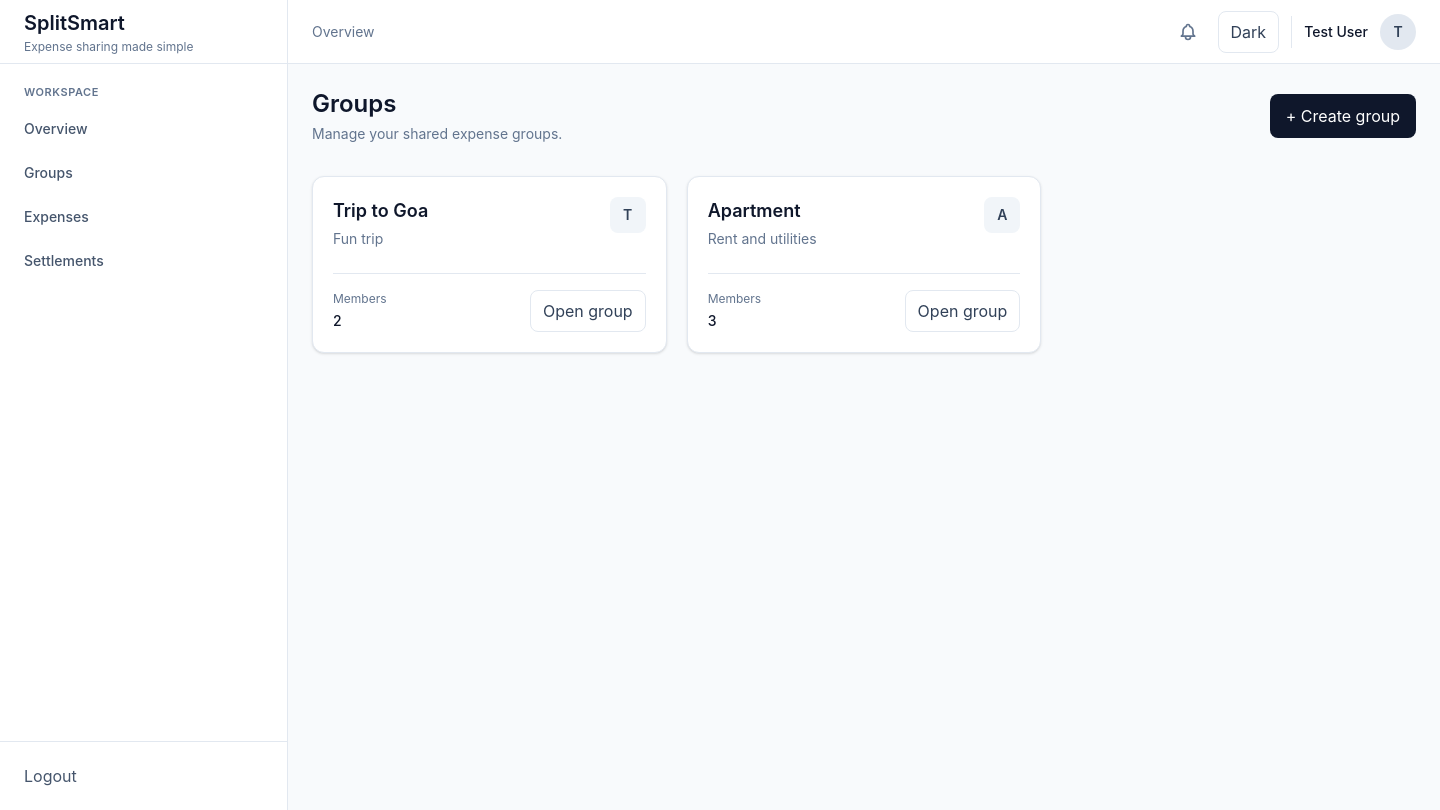
Groups Page › opens create group modal
Expected: the heading "Trip to Goa" is shown, 333,197 -> 428,225
Click the button "+ Create group". click: (1343, 116)
box: 1270,94 -> 1416,138
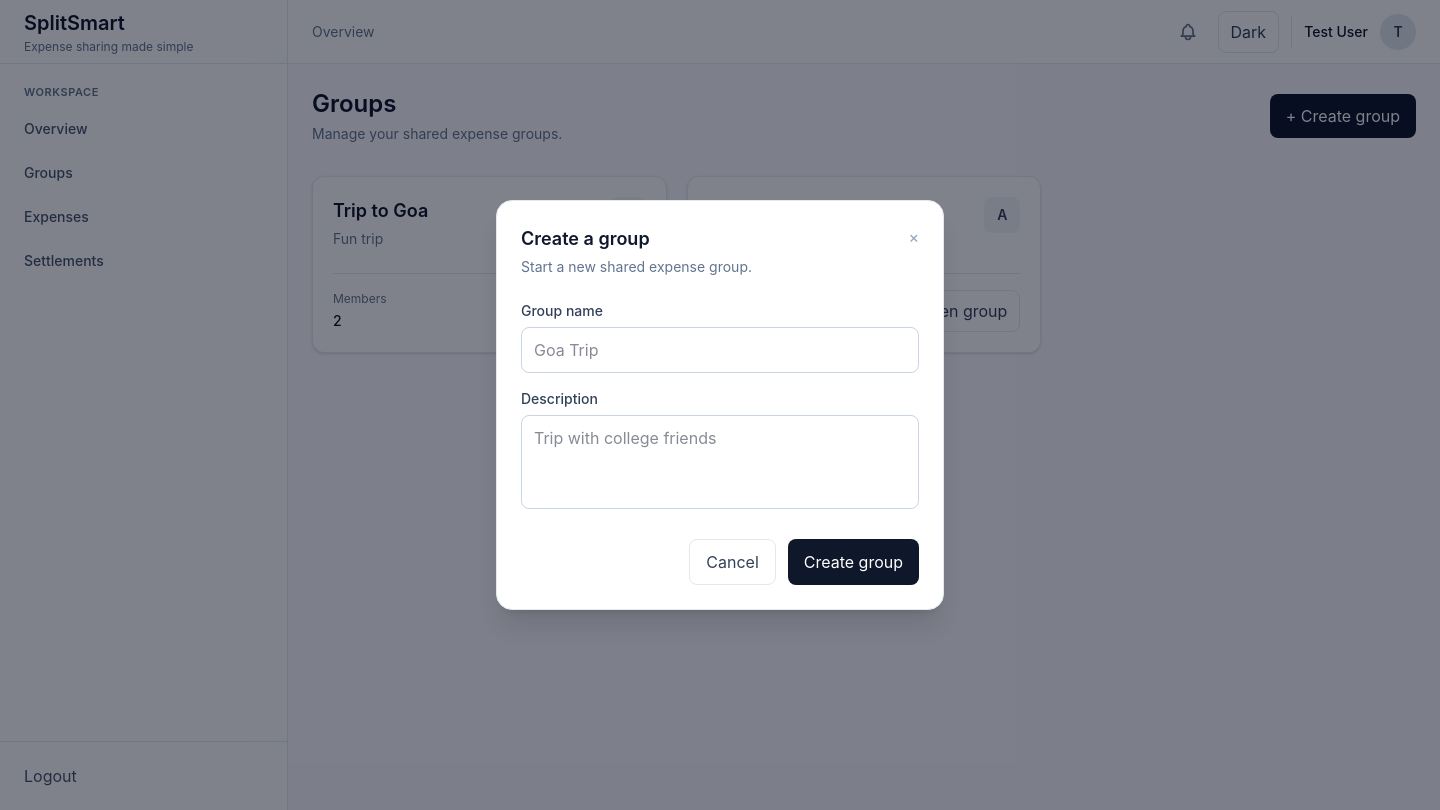
Expected: the heading "Create a group" is shown, 521,228 -> 650,249
